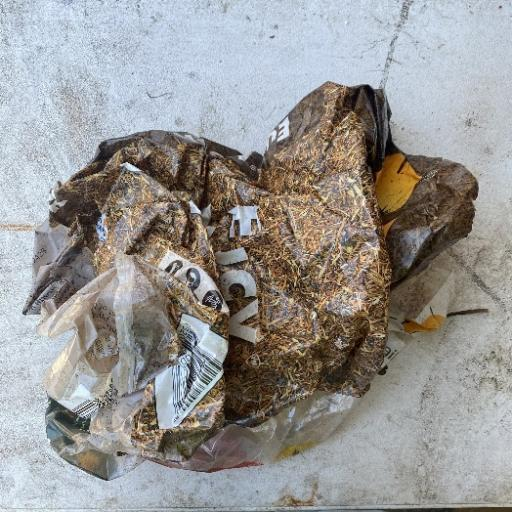Plastic: (21, 79, 479, 477)
